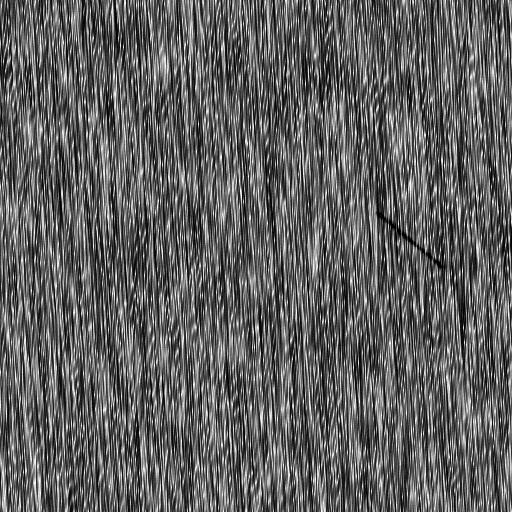DefectTypeC: (374, 210, 443, 273)
